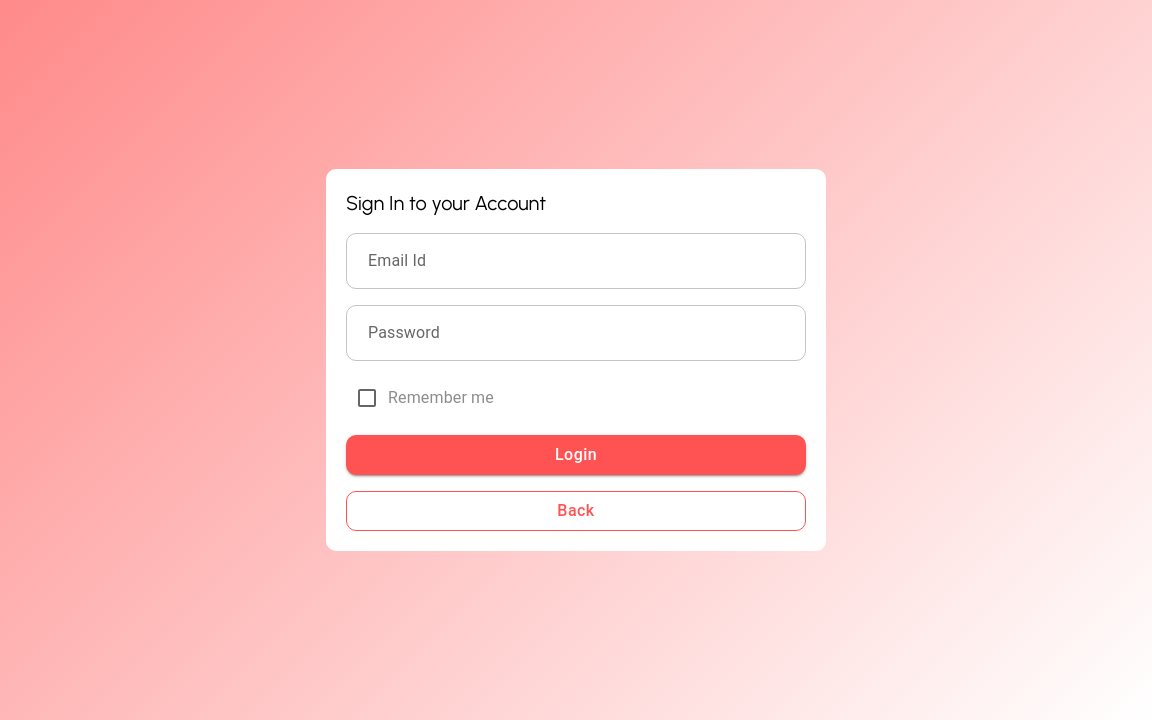
it: LoginPage - Simple Tests with OTP › displays login failure message when incorrect credentials are used
In the field labelled "Email Id": (576, 261) [346,233,806,289], type "test@example.com"
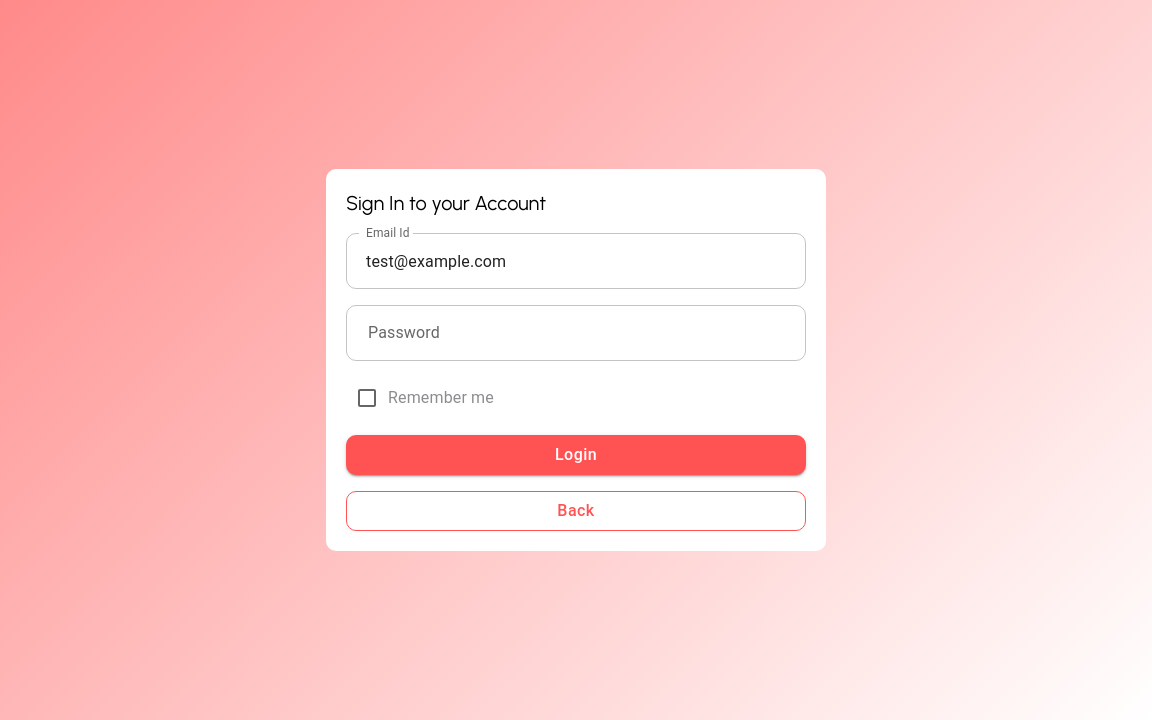
In the password field labelled "Password": (576, 333) [346,305,806,361], type "wrongpassword"
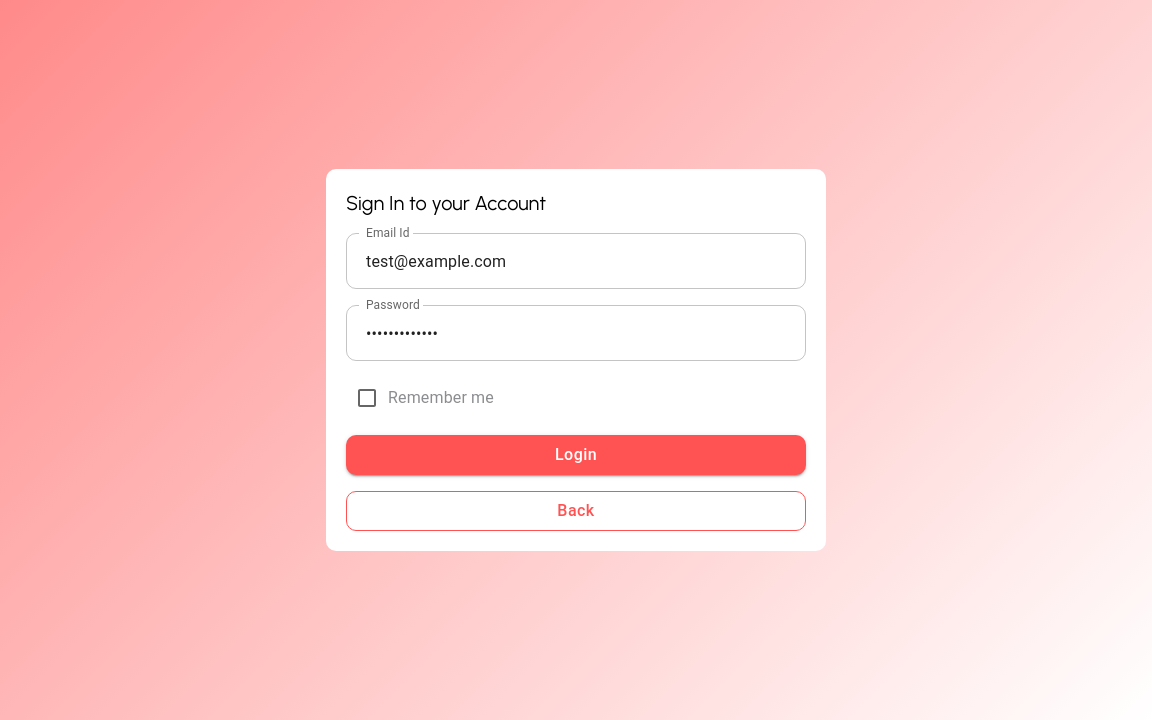
Click the button "Login": (576, 455) [346,435,806,475]
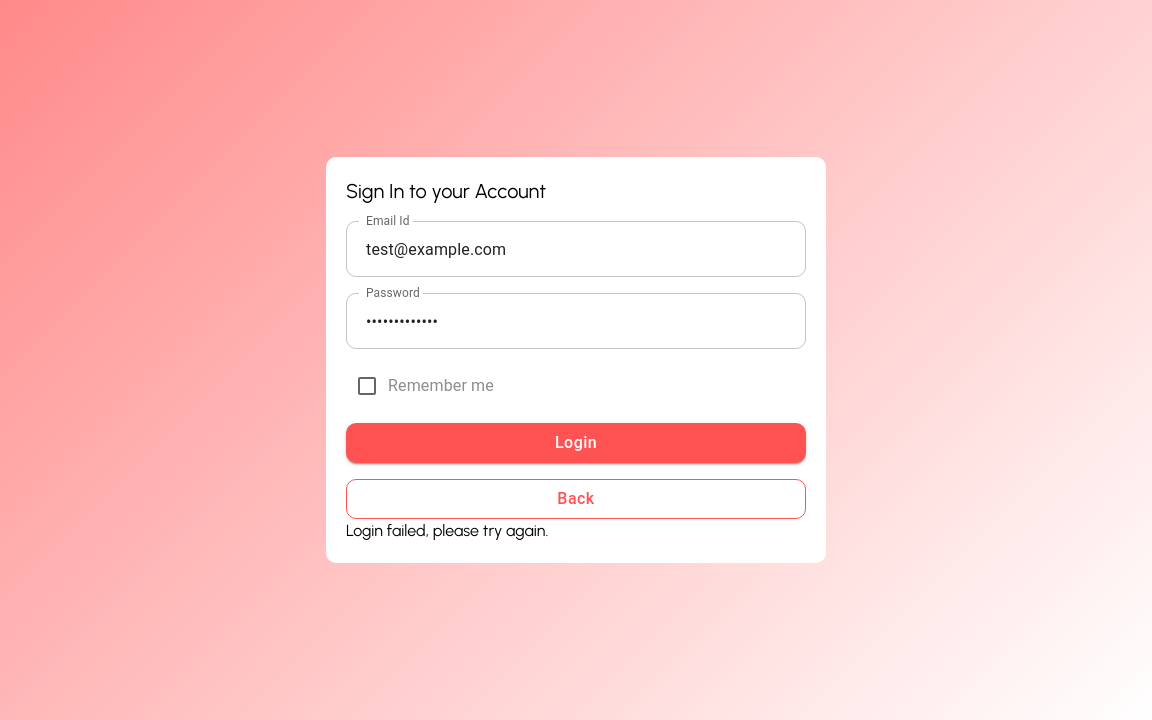
Check: the text "Login failed, please try again." is shown, box [346,521,548,540]
